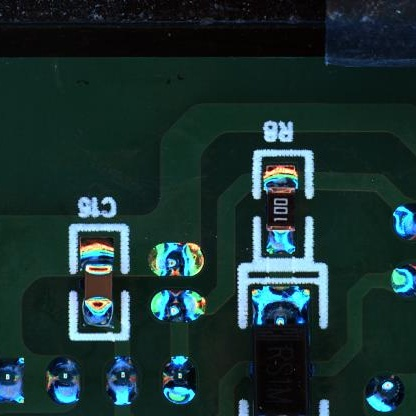spot: (149, 243, 205, 276), (150, 291, 205, 321), (47, 358, 82, 405), (105, 358, 138, 405), (162, 357, 194, 404), (365, 373, 405, 410), (390, 202, 416, 241), (1, 359, 23, 404), (391, 262, 416, 297)
